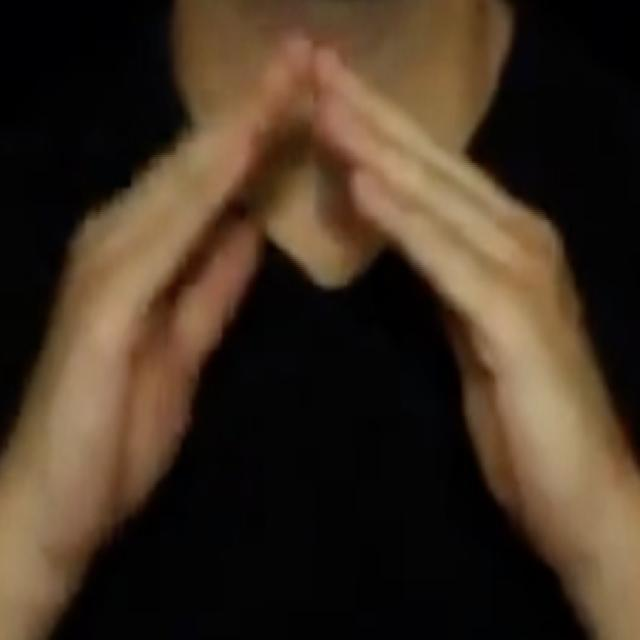casa: (15, 28, 631, 634)
